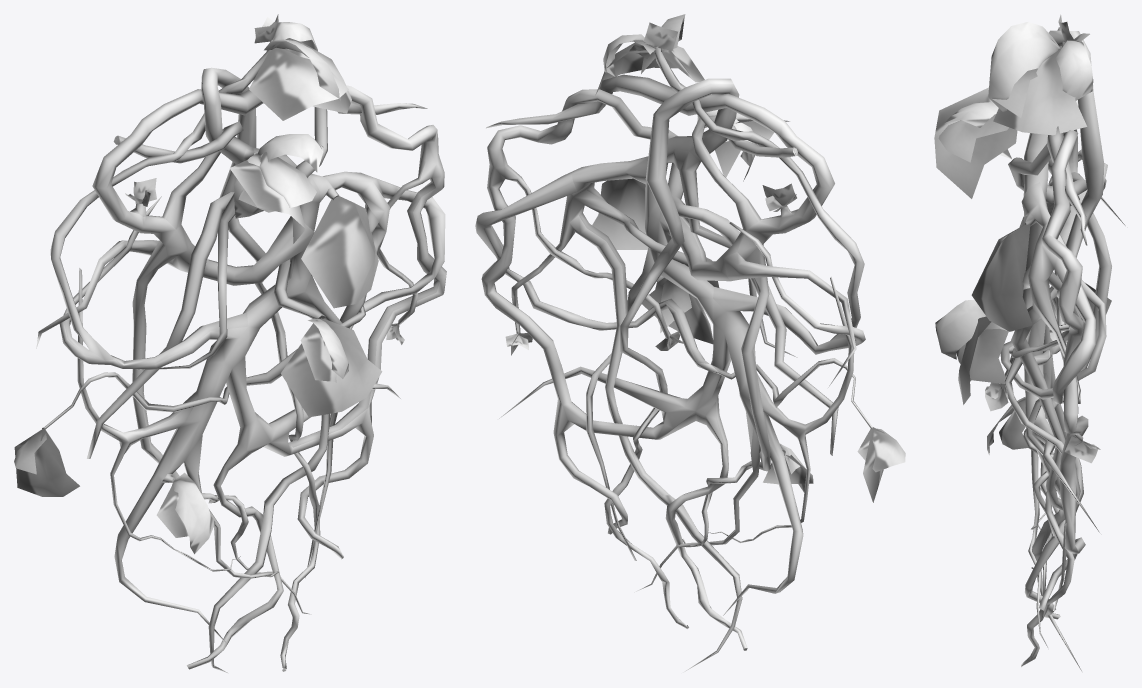
File: Nature_Shield_LOD2.fbx
3 views of the same model, side by side, from view 1: azimuth 30°, elevation 25°; view 2: azimuth 150°, elevation 25°; view 3: azimuth 270°, elevation 25° (orthographic). The views are drawn at different scales.
Visible parts, largest first — view 1: Nature_Shield_LOD2; view 2: Nature_Shield_LOD2; view 3: Nature_Shield_LOD2.
Part boxes in pixels (x1,y1,x2,y2): Nature_Shield_LOD2: (14, 14, 446, 673); Nature_Shield_LOD2: (475, 14, 905, 672); Nature_Shield_LOD2: (934, 14, 1125, 670).
Bounding box in the file's own units: 3.05 × 4.39 × 1.14.
